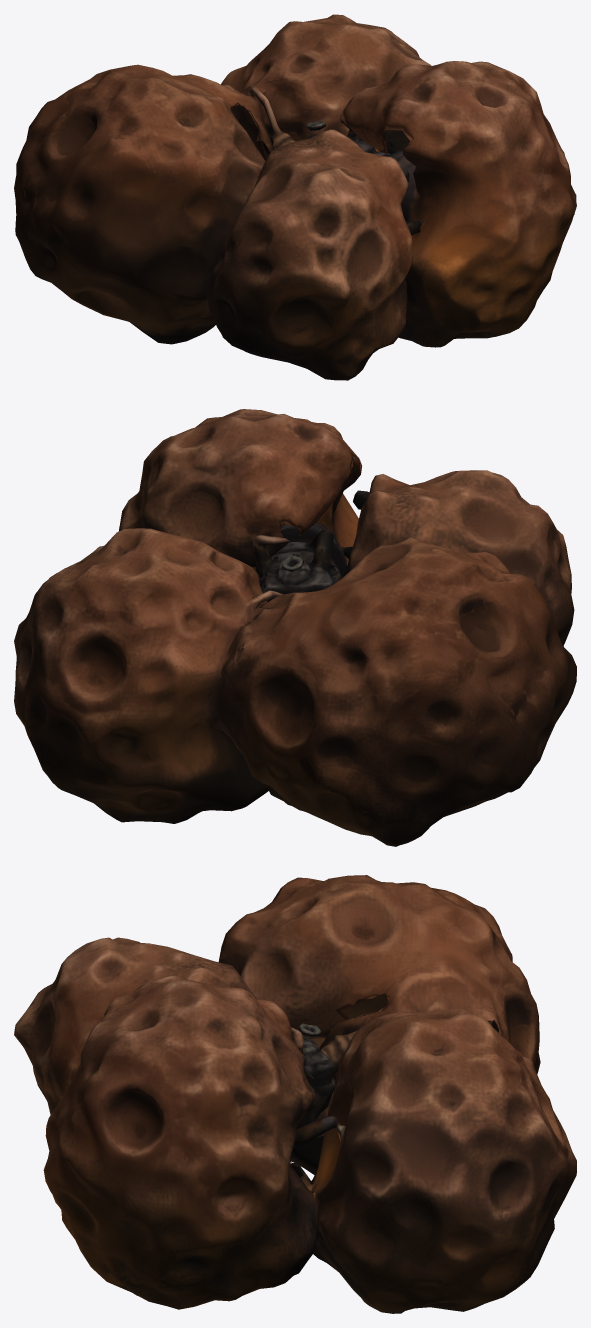
File: na-rock-c.glb
3 views of the same model, one above another, from view 1: azimuth 30°, elevation 25°; view 2: azimuth 150°, elevation 25°; view 3: azimuth 270°, elevation 25° (orthographic). The views are drawn at different scales.
Visible parts, largest first — view 1: geometry_0; view 2: geometry_0; view 3: geometry_0.
Boxes of the visible parts, x1,y1,x2,y2 form: geometry_0: (14, 14, 576, 380); geometry_0: (14, 409, 576, 846); geometry_0: (14, 875, 576, 1313).
Bounding box in the file's own units: 1 × 0.601 × 0.9489.
1 material, 1 textured.
